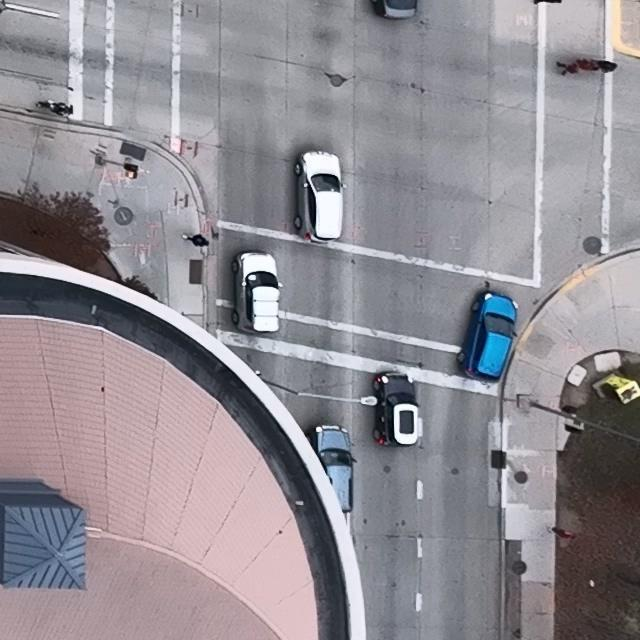car: (456, 292, 518, 383), (294, 150, 346, 243), (306, 423, 357, 513), (232, 250, 283, 334), (373, 370, 419, 448), (375, 0, 417, 19)
